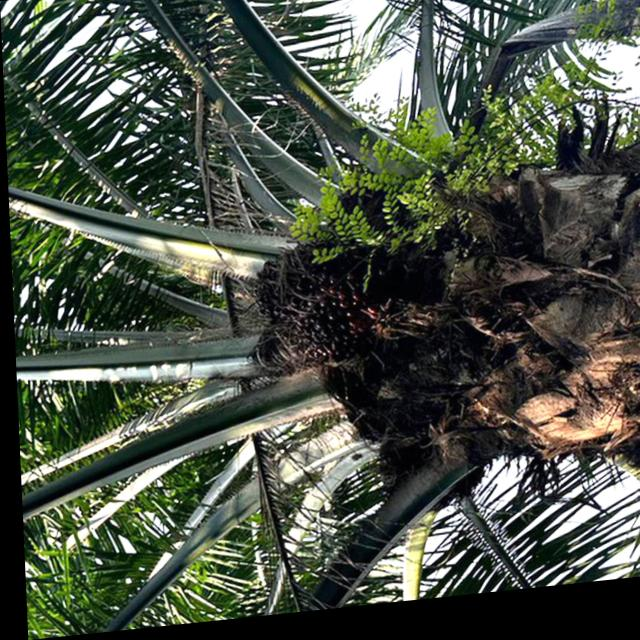unripe: (256, 214, 427, 390)
